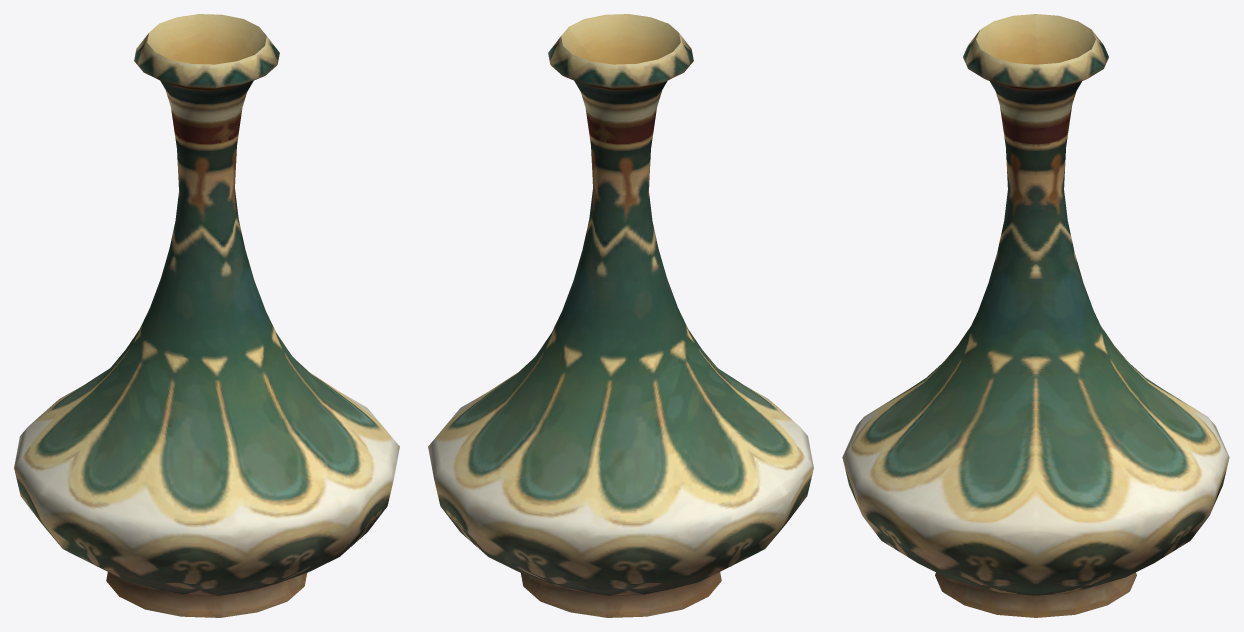
The model's file is Homeworld_Interior_Xm_Decoration_Prop_CafePingzi_01_Vo.fbx.
3 views of the same model, side by side, from view 1: azimuth 30°, elevation 25°; view 2: azimuth 150°, elevation 25°; view 3: azimuth 270°, elevation 25° (orthographic).
Visible parts, largest first — view 1: Indoor_Xm_Prop_Barbecue_Decoration_56_Vo; view 2: Indoor_Xm_Prop_Barbecue_Decoration_56_Vo; view 3: Indoor_Xm_Prop_Barbecue_Decoration_56_Vo.
Boxes of the visible parts, box(x1,y1,x2,y2) form: Indoor_Xm_Prop_Barbecue_Decoration_56_Vo: box(14, 14, 399, 617); Indoor_Xm_Prop_Barbecue_Decoration_56_Vo: box(428, 14, 813, 617); Indoor_Xm_Prop_Barbecue_Decoration_56_Vo: box(842, 14, 1229, 617).
Size of the model in its own units: 0.7894 by 1.21 by 0.7894.
